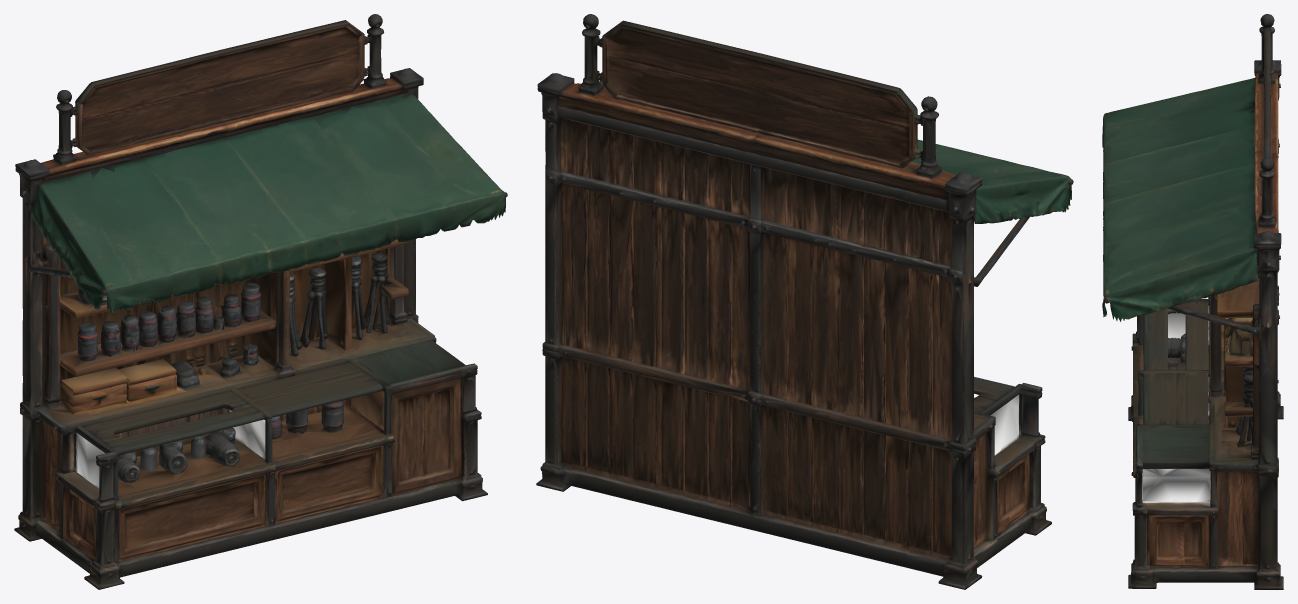
The model's file is shop.glb.
3 views of the same model, side by side, from view 1: azimuth 30°, elevation 25°; view 2: azimuth 150°, elevation 25°; view 3: azimuth 270°, elevation 25° (orthographic). The views are drawn at different scales.
Visible parts, largest first — view 1: tripo_node_af1c0b34-ede3-423a-9aa0-6ca612837cb4; view 2: tripo_node_af1c0b34-ede3-423a-9aa0-6ca612837cb4; view 3: tripo_node_af1c0b34-ede3-423a-9aa0-6ca612837cb4.
Boxes of the visible parts, bbox=[...] form: tripo_node_af1c0b34-ede3-423a-9aa0-6ca612837cb4: bbox=[14, 14, 507, 589]; tripo_node_af1c0b34-ede3-423a-9aa0-6ca612837cb4: bbox=[536, 14, 1073, 589]; tripo_node_af1c0b34-ede3-423a-9aa0-6ca612837cb4: bbox=[1102, 14, 1283, 589].
Bounding box in the file's own units: 2.92 × 3 × 1.19.
1 material, 1 textured.
